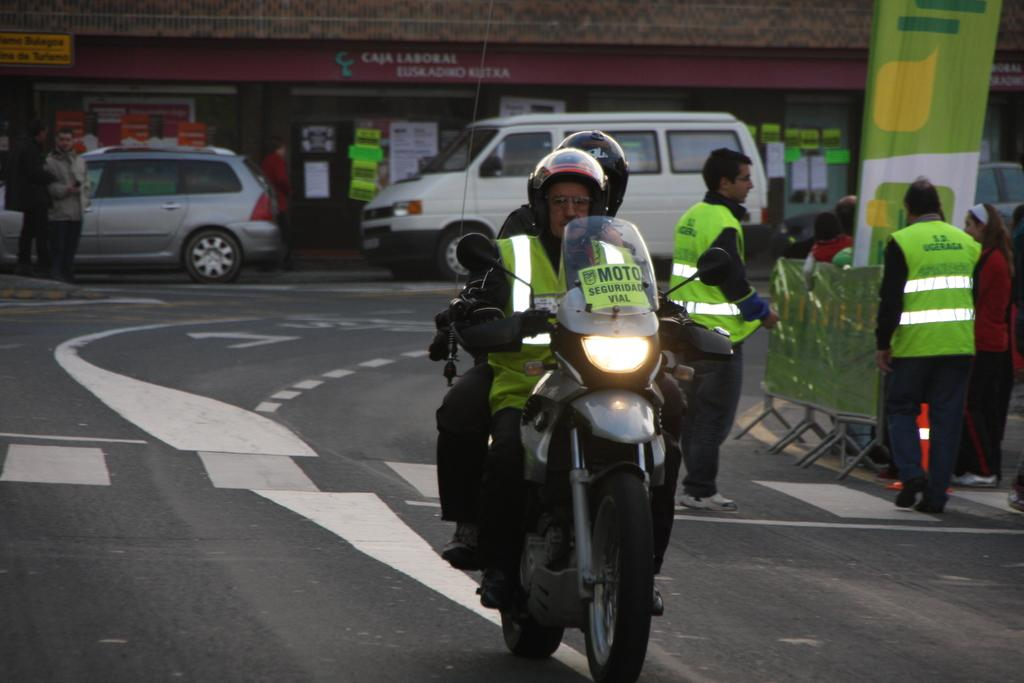helmet: (544, 130, 630, 227), (527, 147, 611, 238)
nohelmet: (701, 146, 756, 207), (903, 178, 944, 228), (961, 202, 1002, 250), (26, 117, 50, 146), (55, 126, 75, 154), (266, 135, 287, 159)
